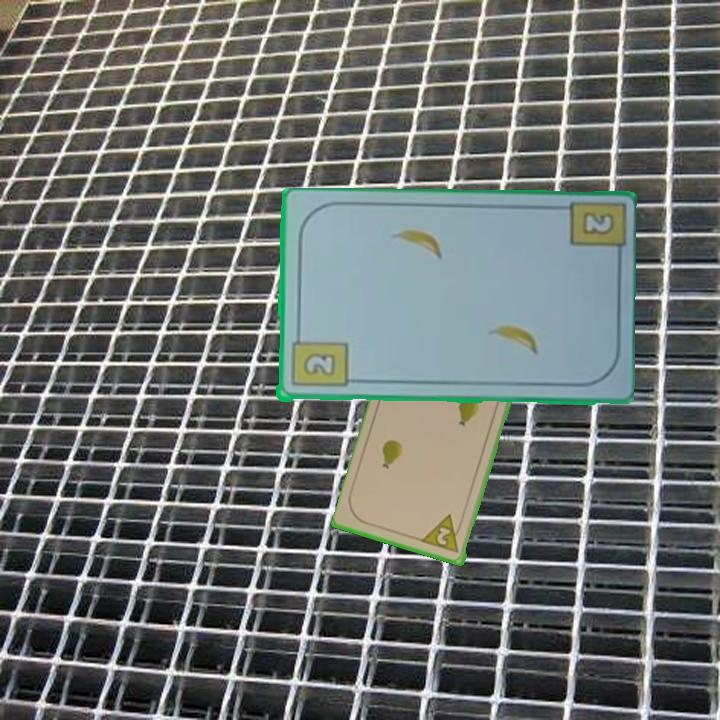2b: (288, 328, 349, 391), (578, 209, 618, 238)
2p: (420, 511, 465, 556)
